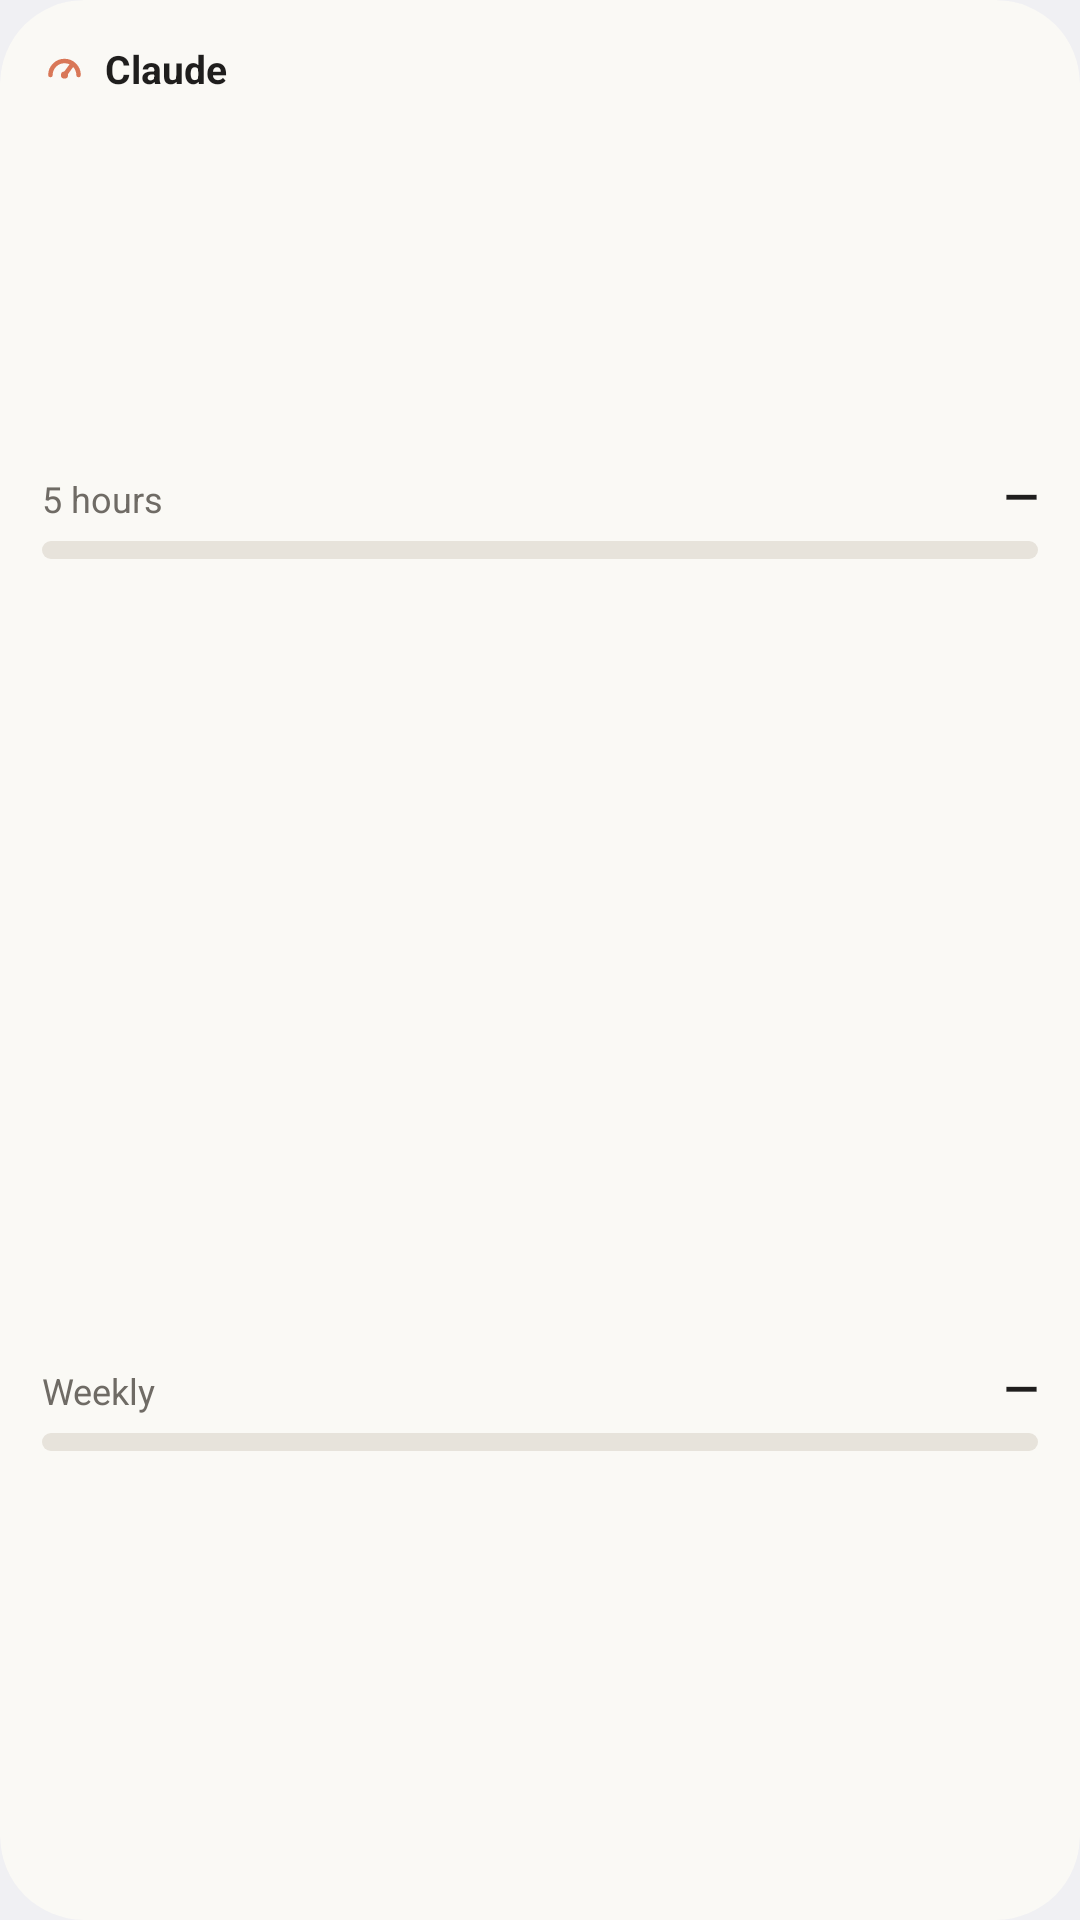

Point at icon controls on the screen. Image size 1080x1920, points as point (x, y).
gauge: point (64, 68)
